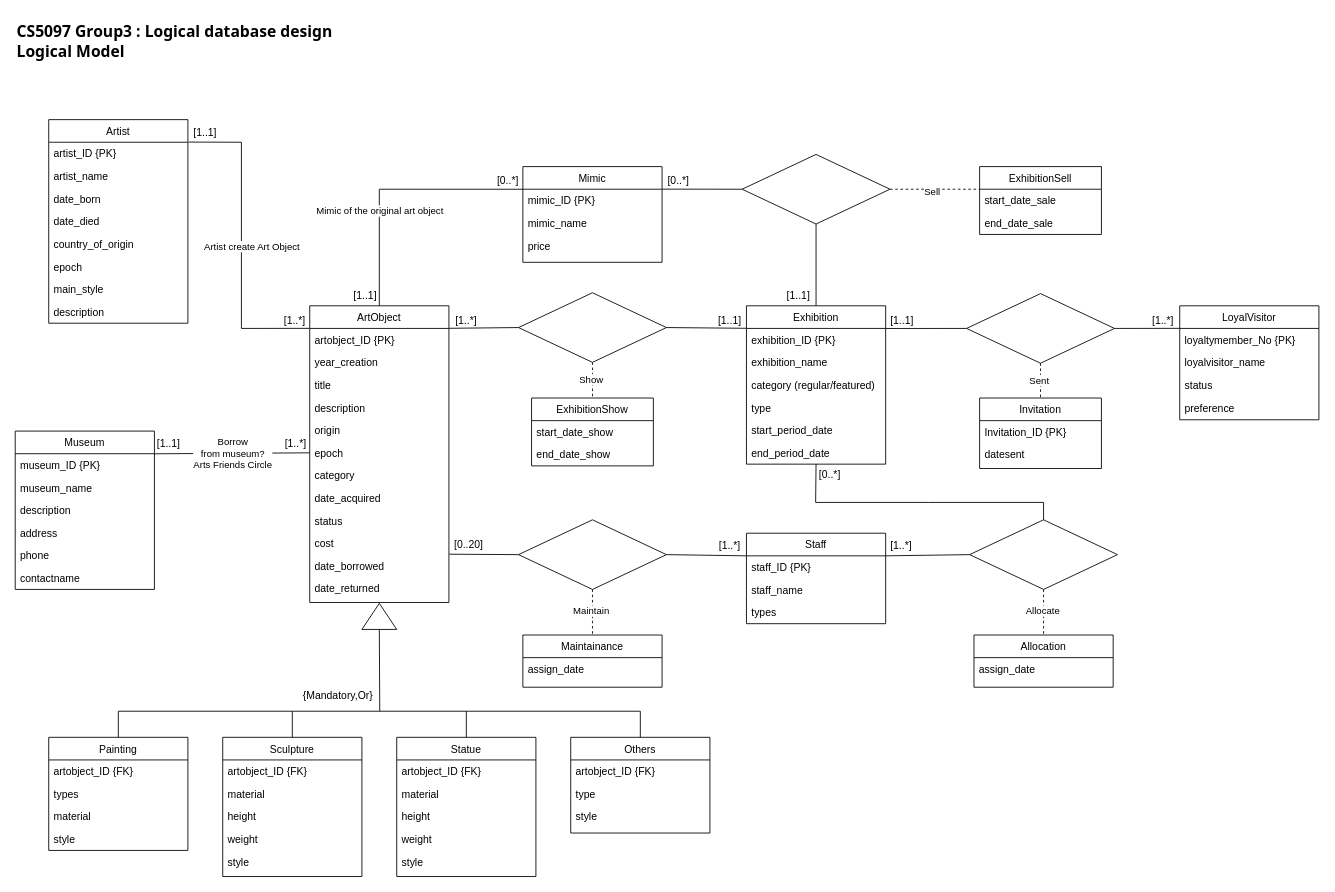
Some shapes in this 1335 by 892 pixel diagram are drawn without their labels. Each missing label, with the centre of its shape:
"Curator maintain Art Object" goes at (x=592, y=554).
"Exhibition show Art Object" goes at (x=592, y=327).
"Featured Exhibitions sell Mimic" goes at (x=815, y=189).
"Invitation Loyal Visitor to Featured Exhibition" goes at (x=1040, y=328).
"Supervisor allocate Exhibition" goes at (x=1043, y=554).
